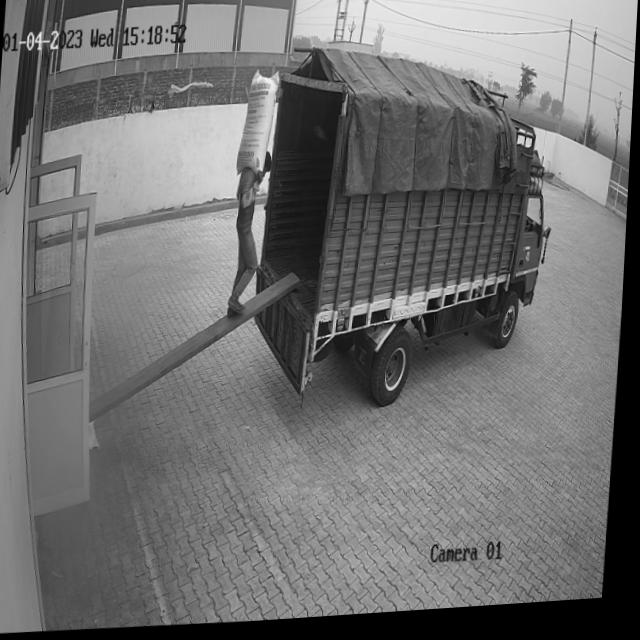sack: (236, 68, 281, 183)
